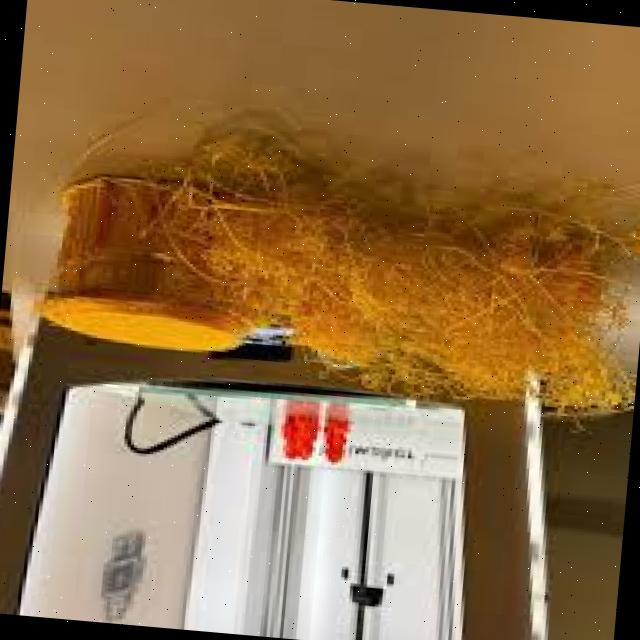spaghetti: (169, 143, 572, 380)
